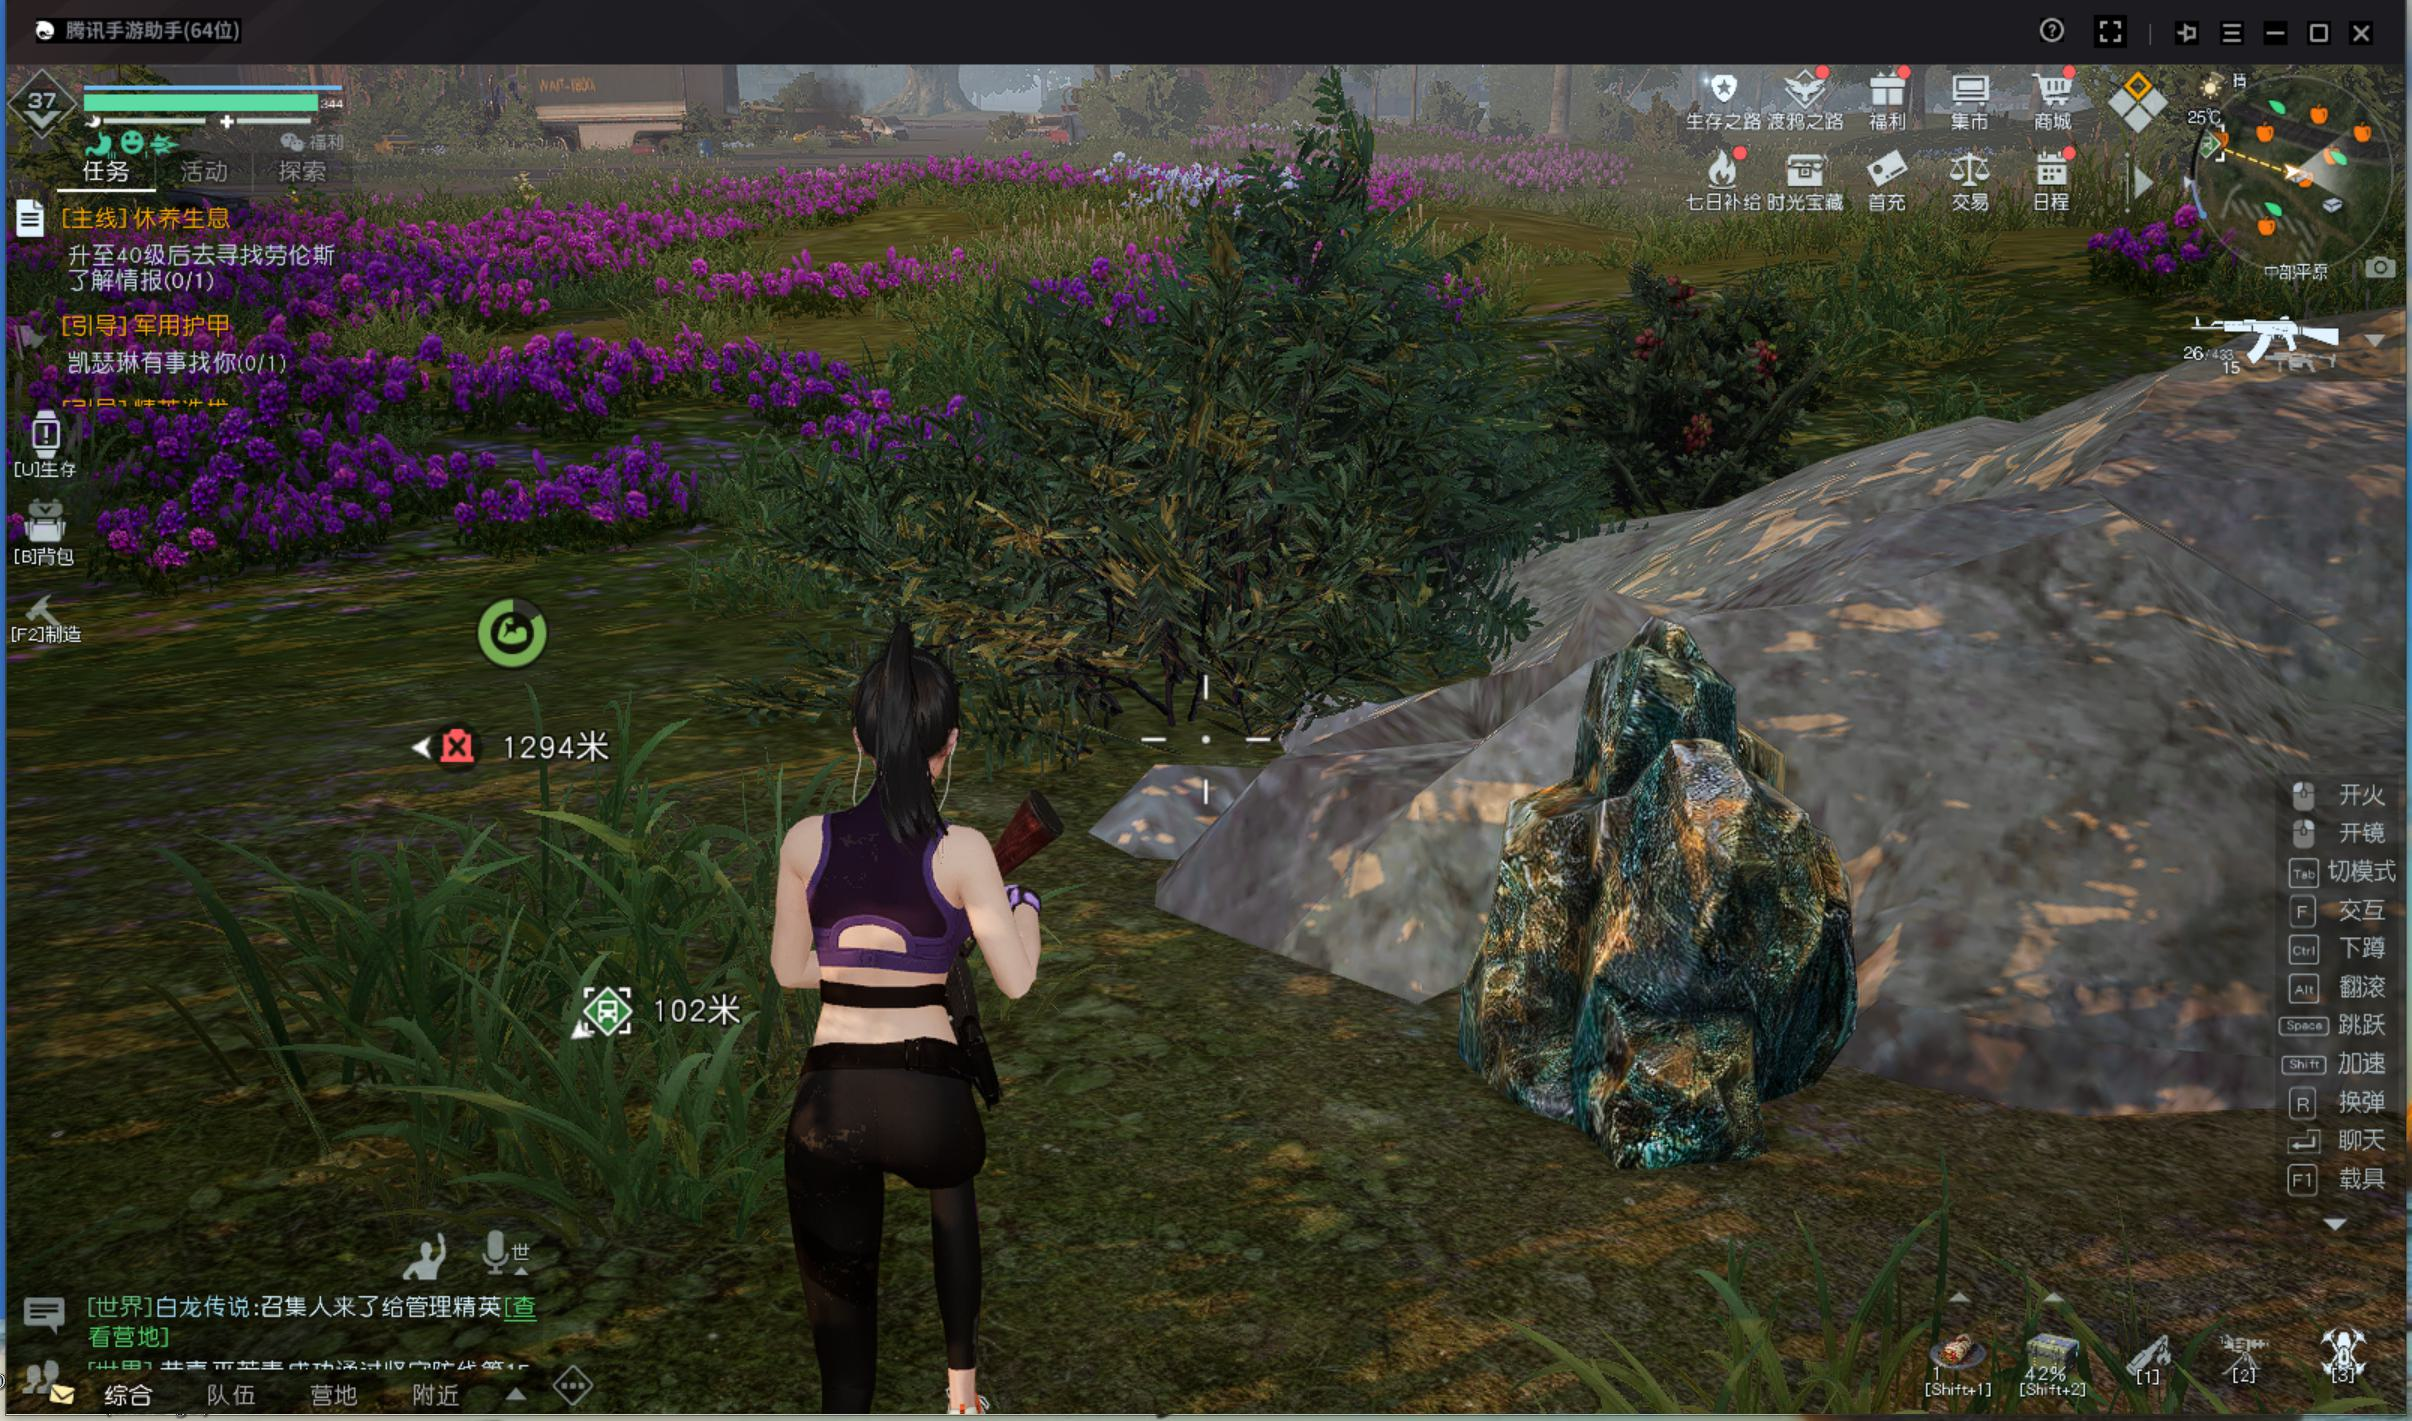stone: (1423, 616, 1906, 1188)
